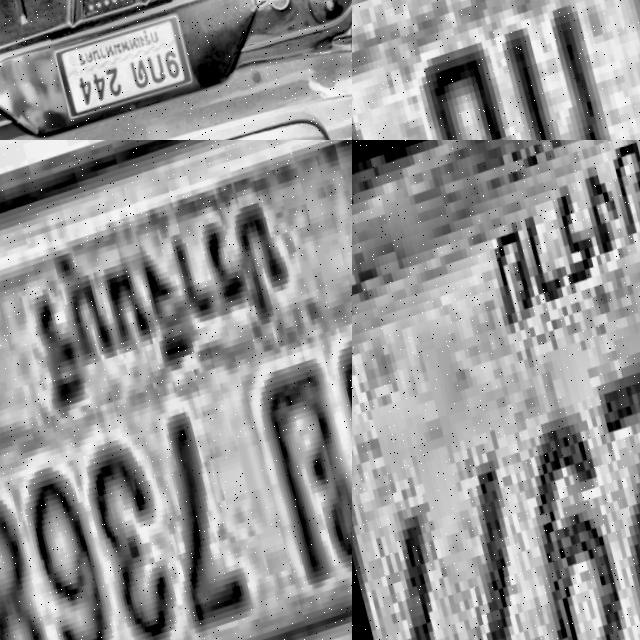license-plate: (0, 140, 352, 640), (352, 140, 640, 640), (352, 0, 640, 140), (49, 18, 191, 129)
